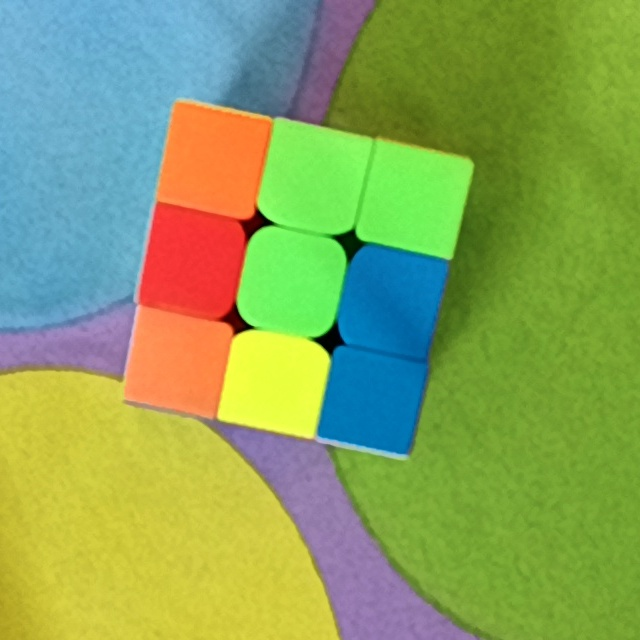tile: (172, 119, 253, 201), (353, 261, 434, 341), (377, 156, 456, 238), (252, 242, 331, 321), (155, 222, 231, 303), (273, 140, 348, 220), (135, 325, 217, 398), (335, 360, 413, 435), (234, 346, 313, 419)
